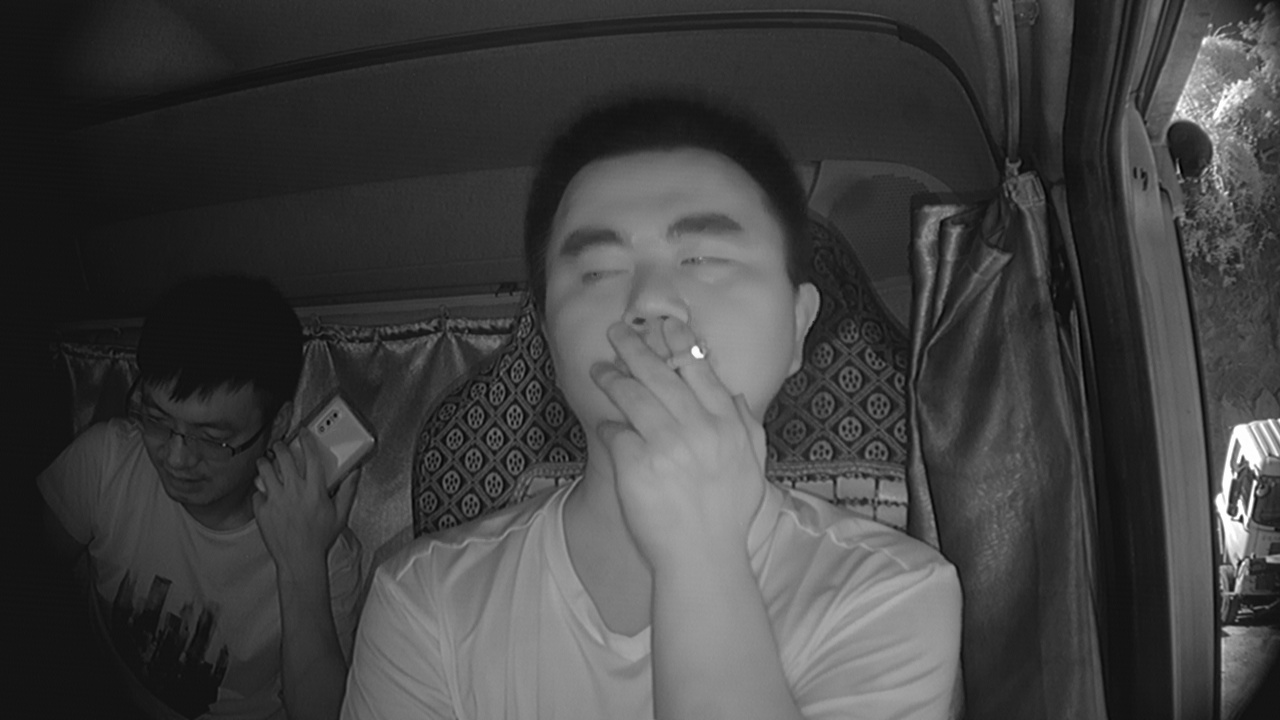hand: (594, 319, 756, 541)
